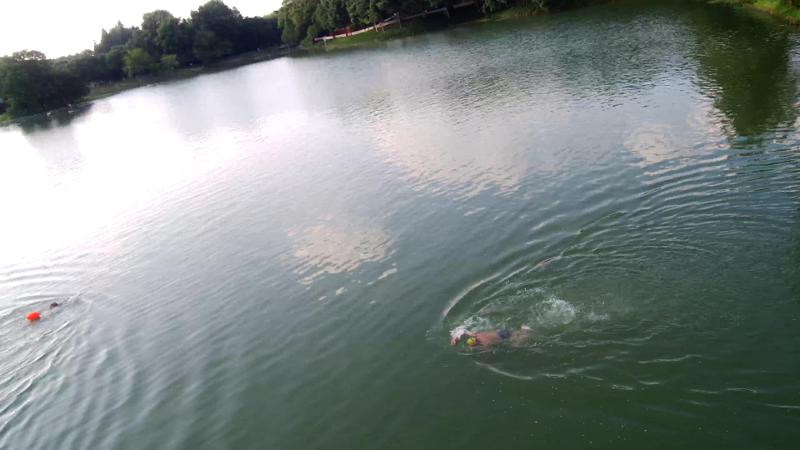swimmers: (449, 323, 528, 357)
